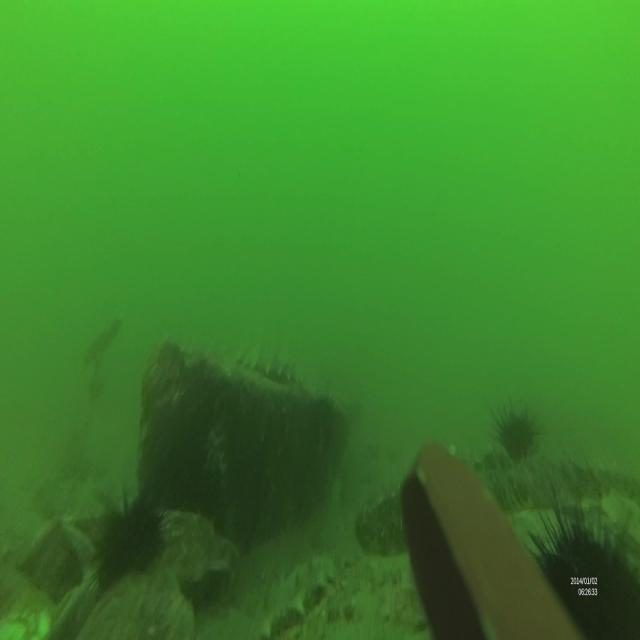echinus: (532, 510, 640, 640), (94, 495, 162, 575), (498, 407, 536, 453)
holothurian: (233, 338, 310, 394)
